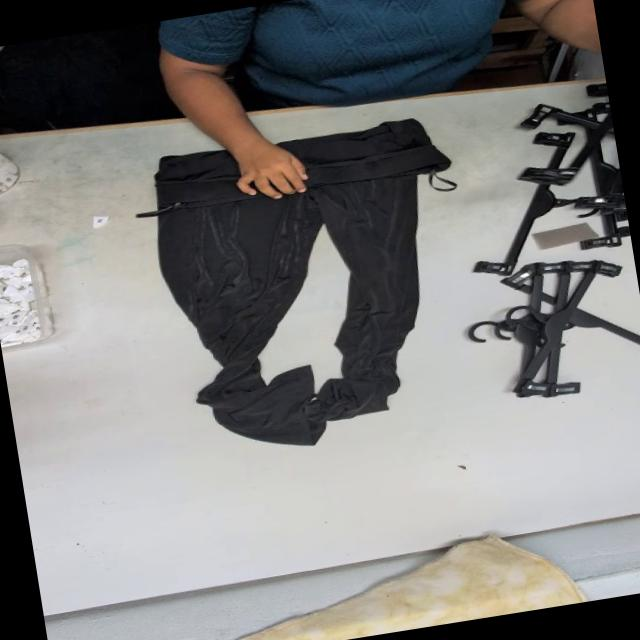new-garment: (136, 119, 449, 445)
